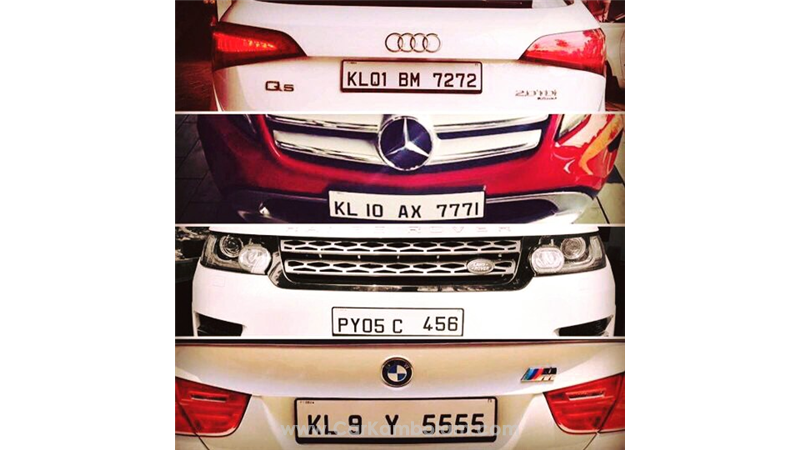number_plate: (293, 396, 495, 446), (338, 55, 487, 96), (326, 186, 490, 223), (329, 303, 466, 336)
